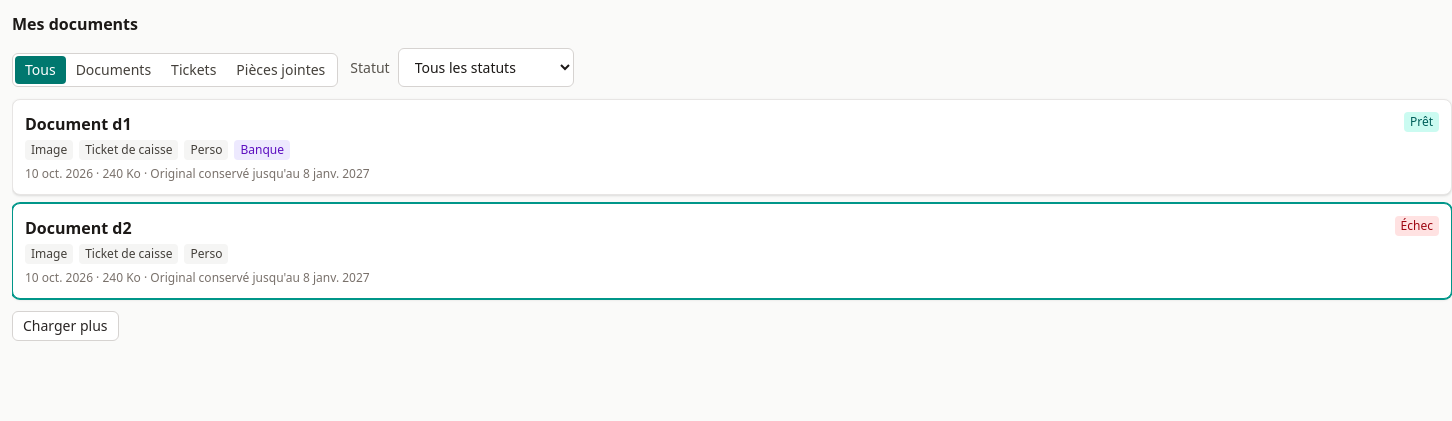
Test: DocumentList › lists documents with their status, size and retention, and loads more
Expected: the link "Document d1" shows "Prêt", [12,99,1451,195]
Expected: the link "Document d1" shows "Banque", [12,99,1451,195]
Click the button "Charger plus".
click(65, 326)  # box [12,311,118,341]
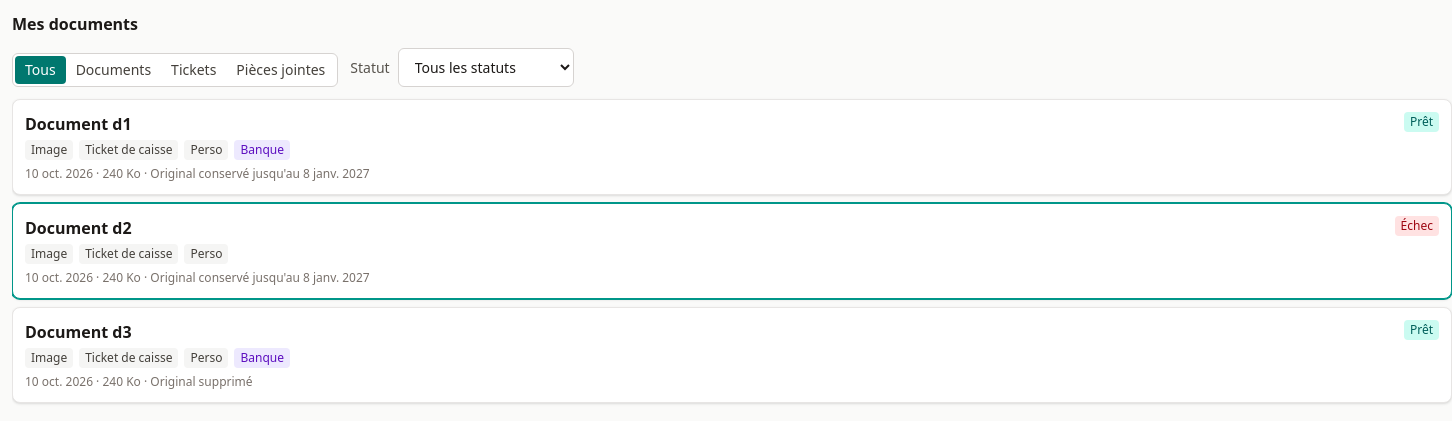
Now the link "Document d3" shows "Original supprimé", box [12,307,1451,403]
Now the button "Charger plus" is gone
